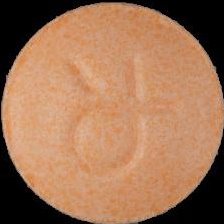68788-9213: (0, 0, 224, 224)
